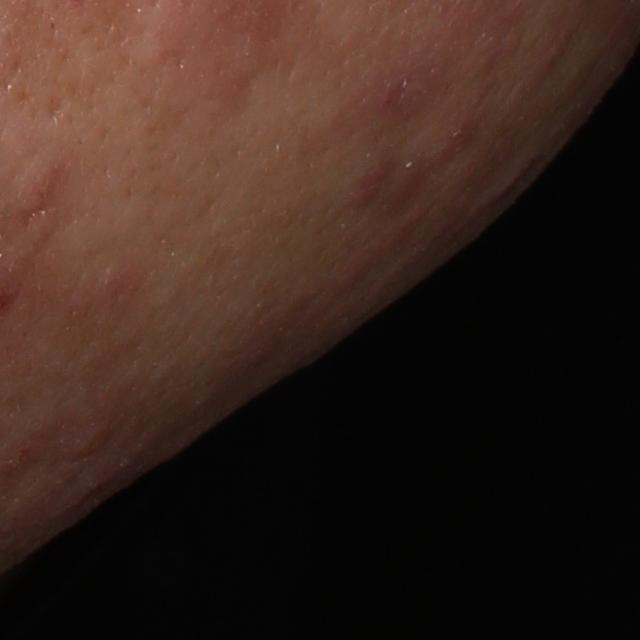papule: (363, 68, 432, 125), (63, 420, 116, 462), (346, 160, 391, 209)
